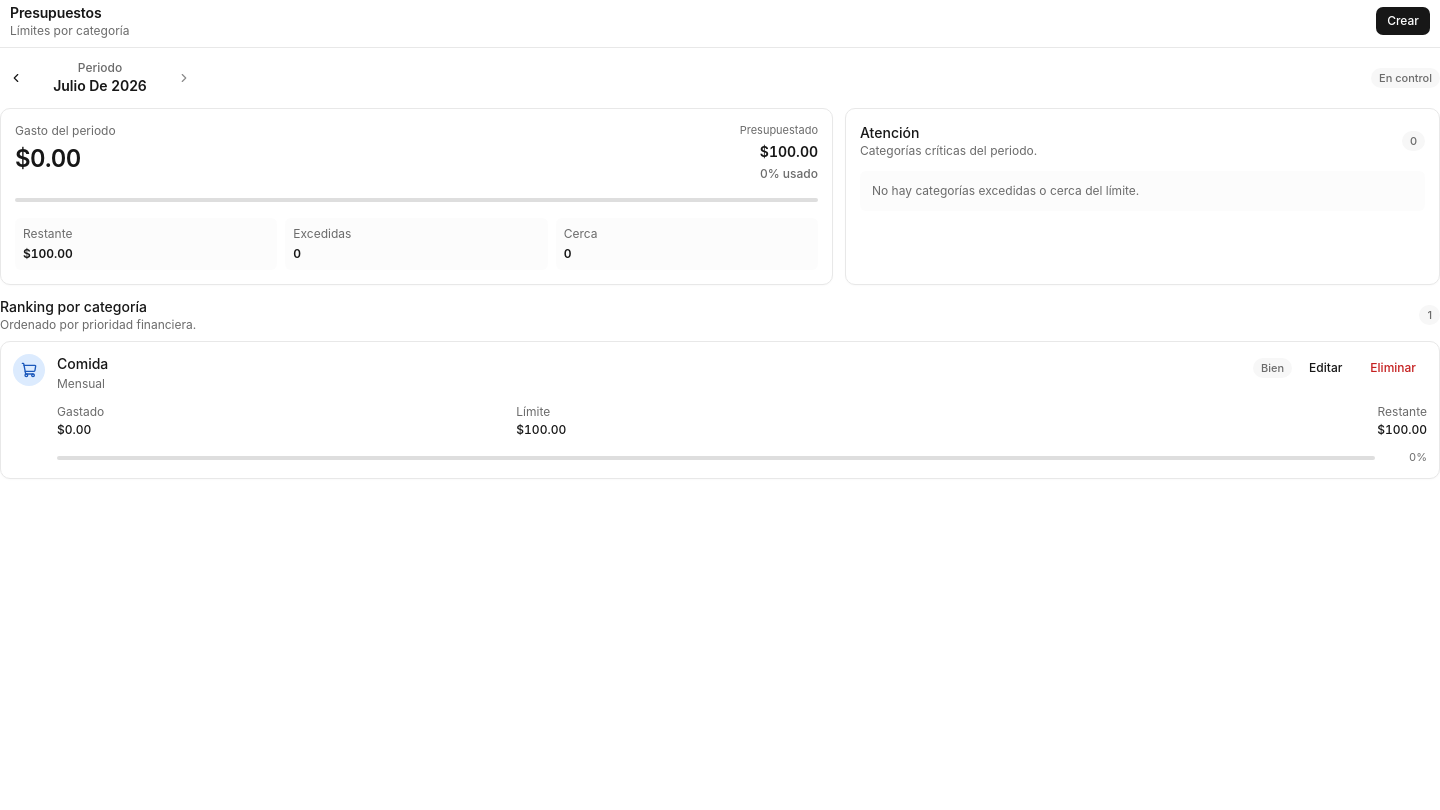
Test: BudgetsPage › edits a budget from its card with prefilled values
Click the button with aria-label "Editar presupuesto de Comida": (1326, 368) [1298,354,1353,382]
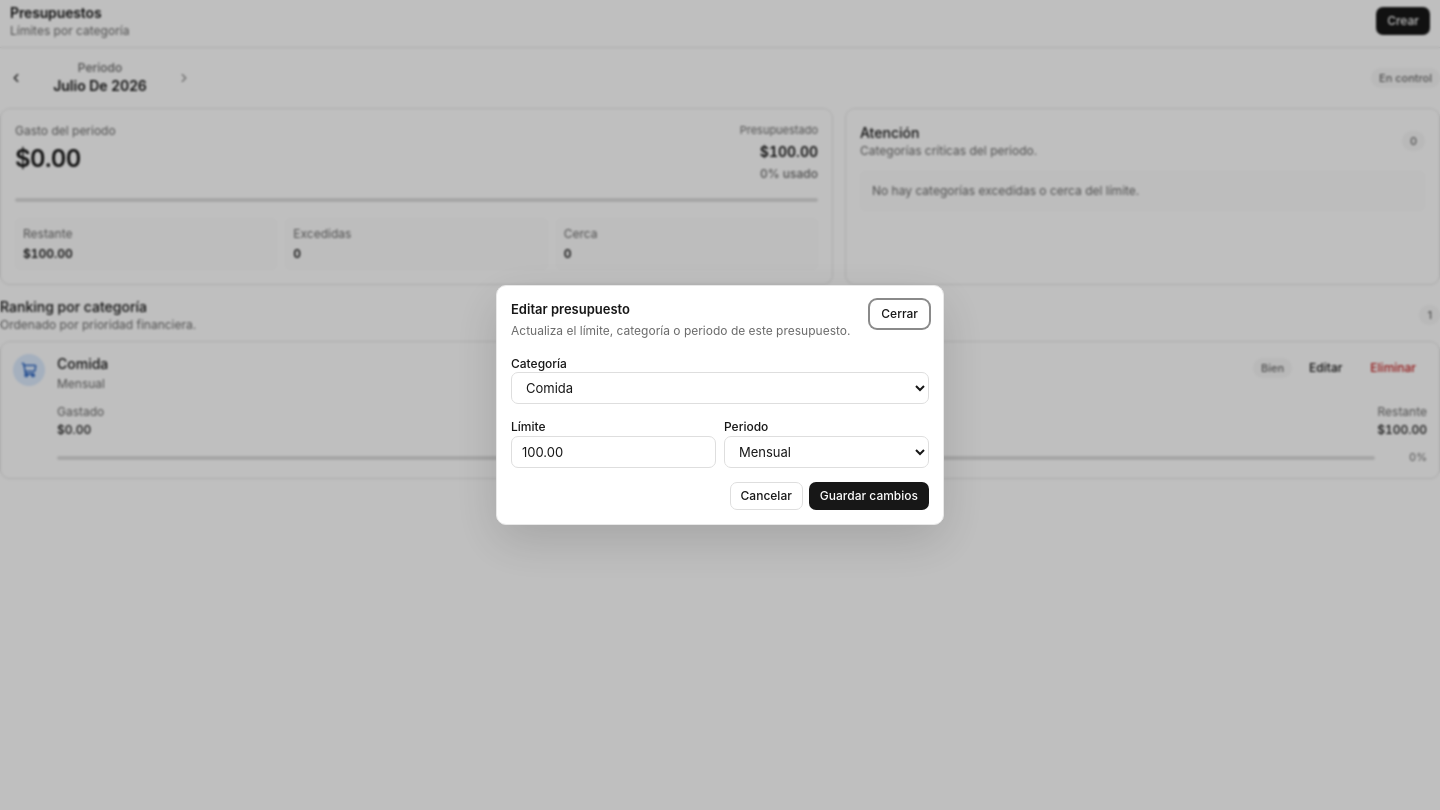
Check: the heading "Editar presupuesto" is shown, box [511,301,630,317]
Check: the text "Actualiza el límite, categoría o periodo de este presupuesto." is shown, box [511,322,850,338]
Check: the field labelled "Límite" holds "100.00"
Replace the text in the field labelled "Límite" with "500": (614, 452) [511,436,716,468]
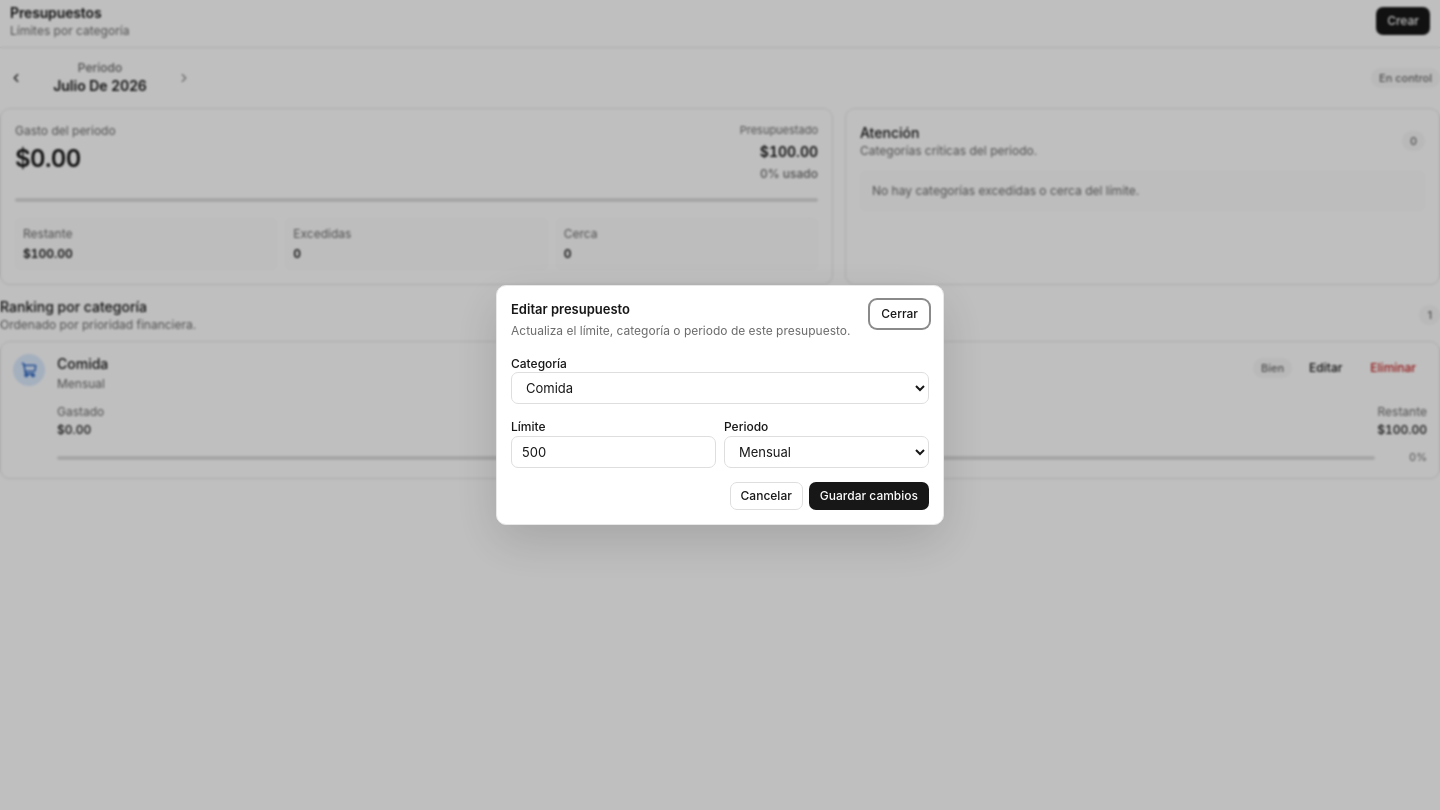
Select "Semanal" in the dropdown labelled "Periodo": (826, 452) [724,436,929,468]
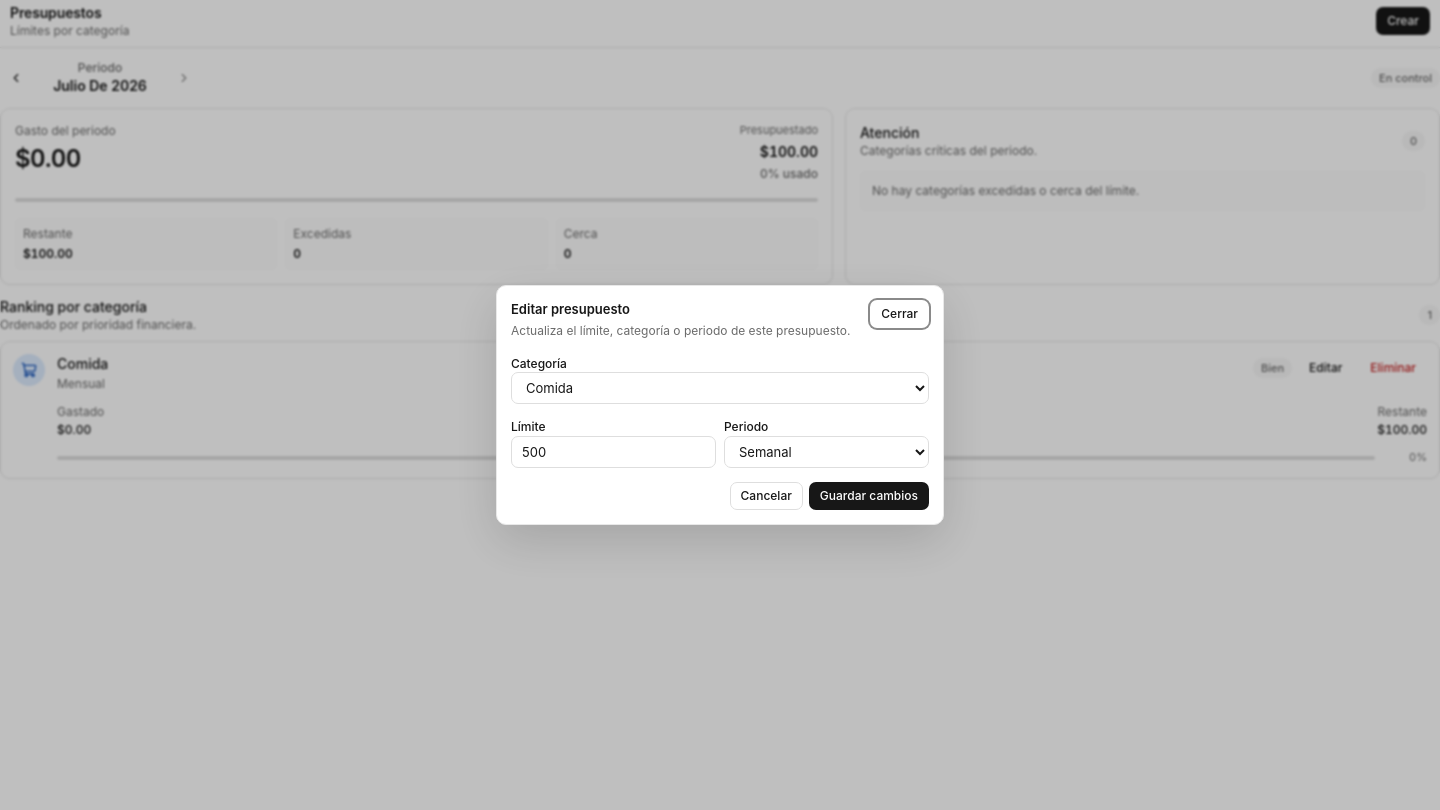
Click the button "Guardar cambios": (869, 496) [809,482,929,510]
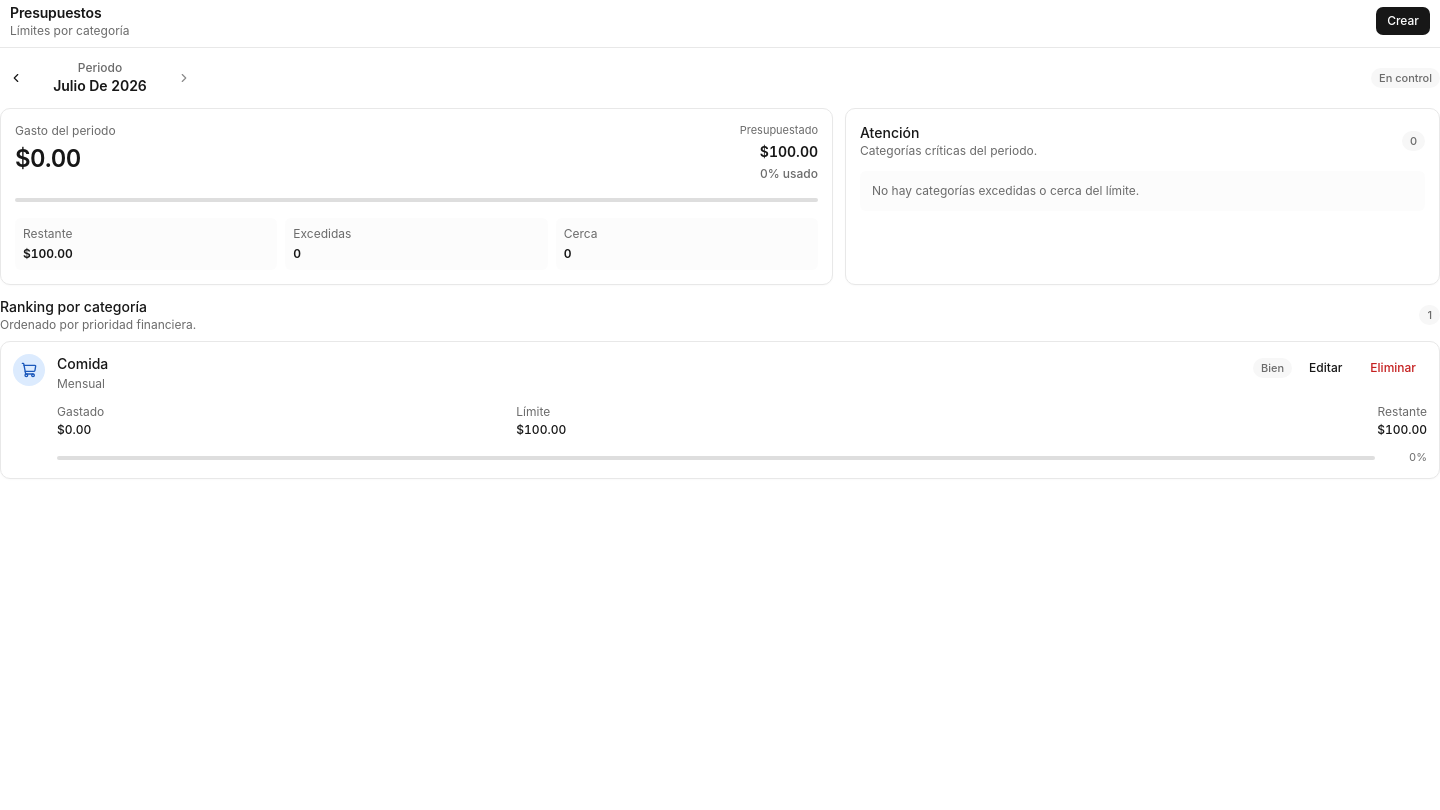
Check: the text "Actualiza el límite, categoría o periodo." is gone
